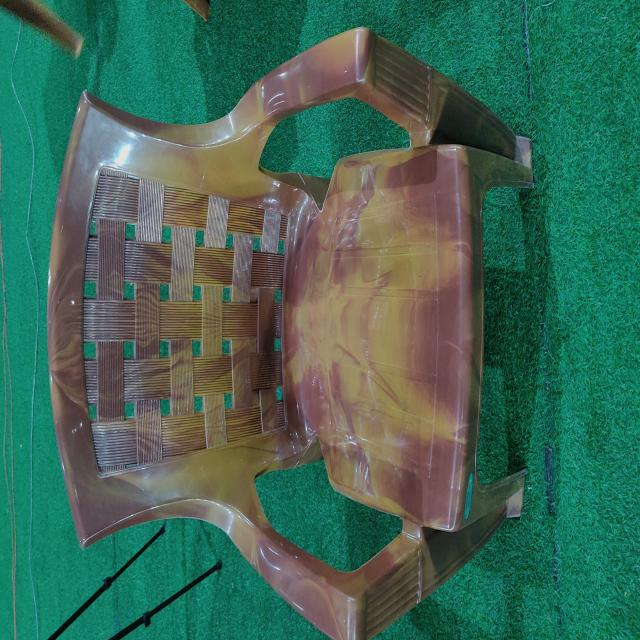Chair: (46, 26, 534, 638)
